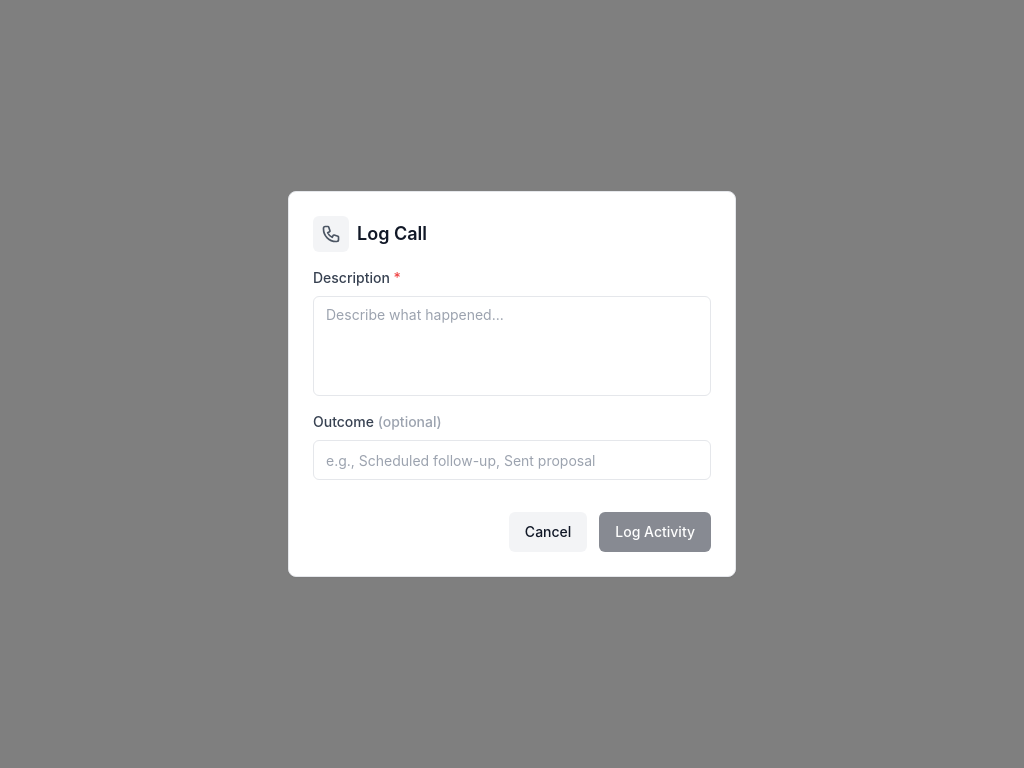
Test: ActivityForm › submit button is enabled when description is filled
Type "Called to discuss proposal" into the text box labelled "Description *" at coordinates (512, 346), box 313,296 -> 711,396
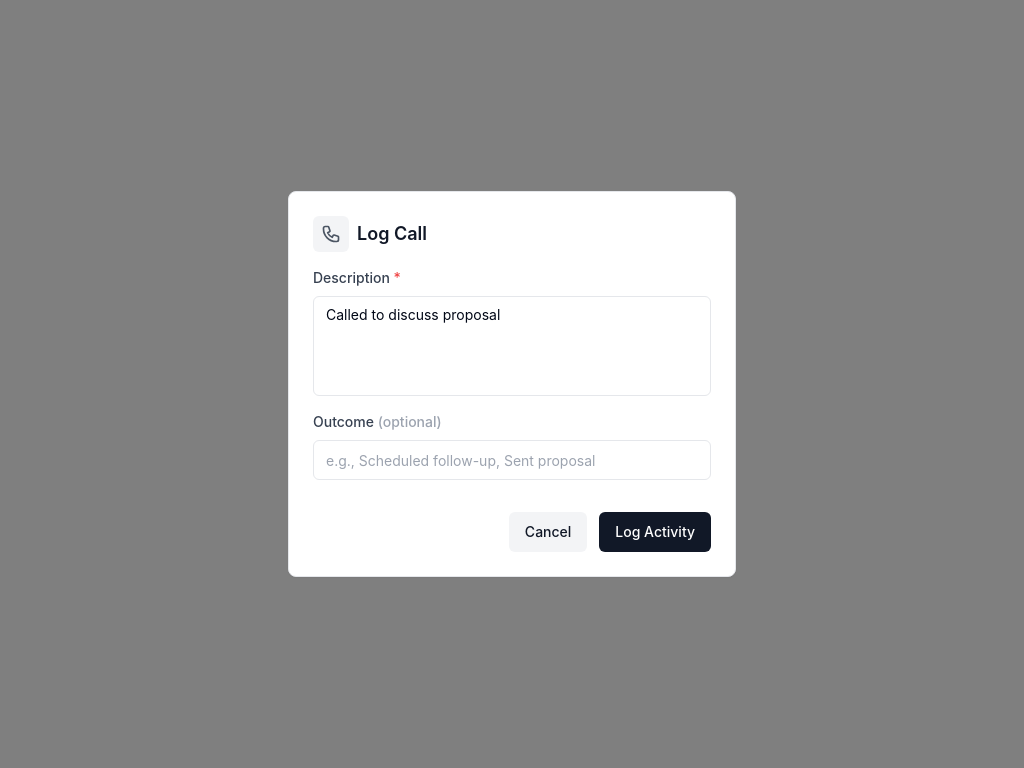
expect the button "Log Activity" is enabled: met, box 599,512 -> 711,552
